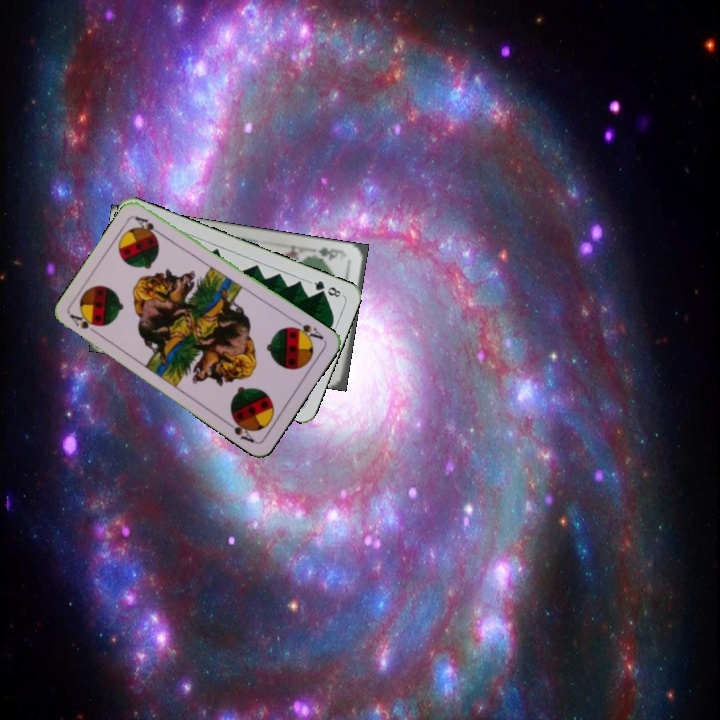G8: (306, 277, 345, 300)
GK: (314, 243, 347, 262)
SA: (287, 315, 326, 344), (66, 310, 103, 338)
